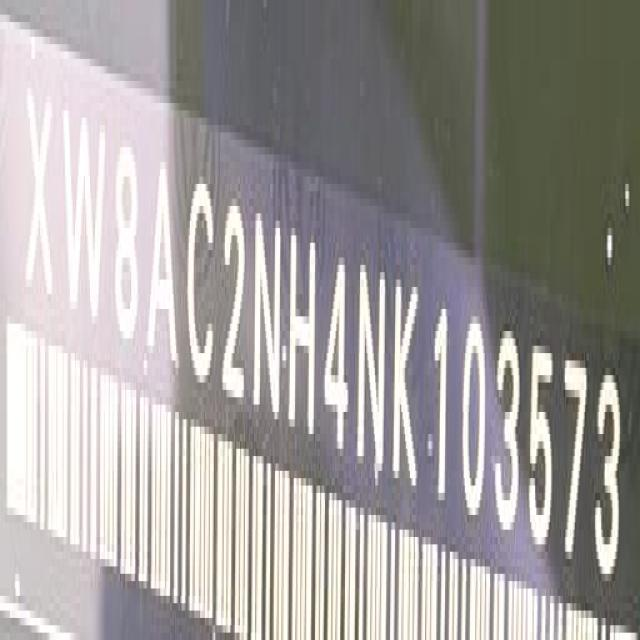0: (463, 310, 488, 522)
1: (432, 298, 450, 516)
2: (223, 199, 247, 414)
3: (598, 362, 623, 590), (497, 330, 522, 541)
4: (324, 250, 349, 468)
5: (530, 335, 554, 558)
7: (561, 343, 587, 577)
8: (116, 141, 140, 347)
A: (148, 161, 176, 375)
C: (189, 176, 217, 396)
H: (290, 226, 318, 444)
K: (395, 271, 421, 495)
N: (254, 205, 284, 424), (360, 260, 386, 485)
W: (62, 102, 103, 332)
X: (25, 82, 53, 312)
